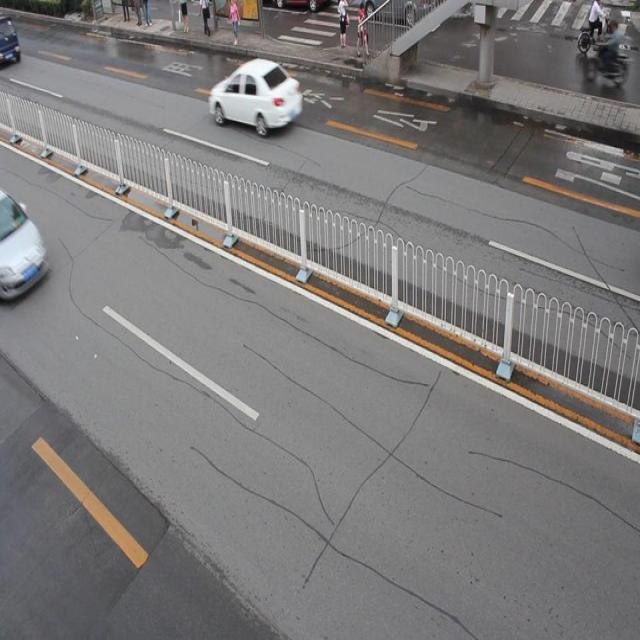car: (208, 58, 303, 133), (1, 188, 47, 301)
